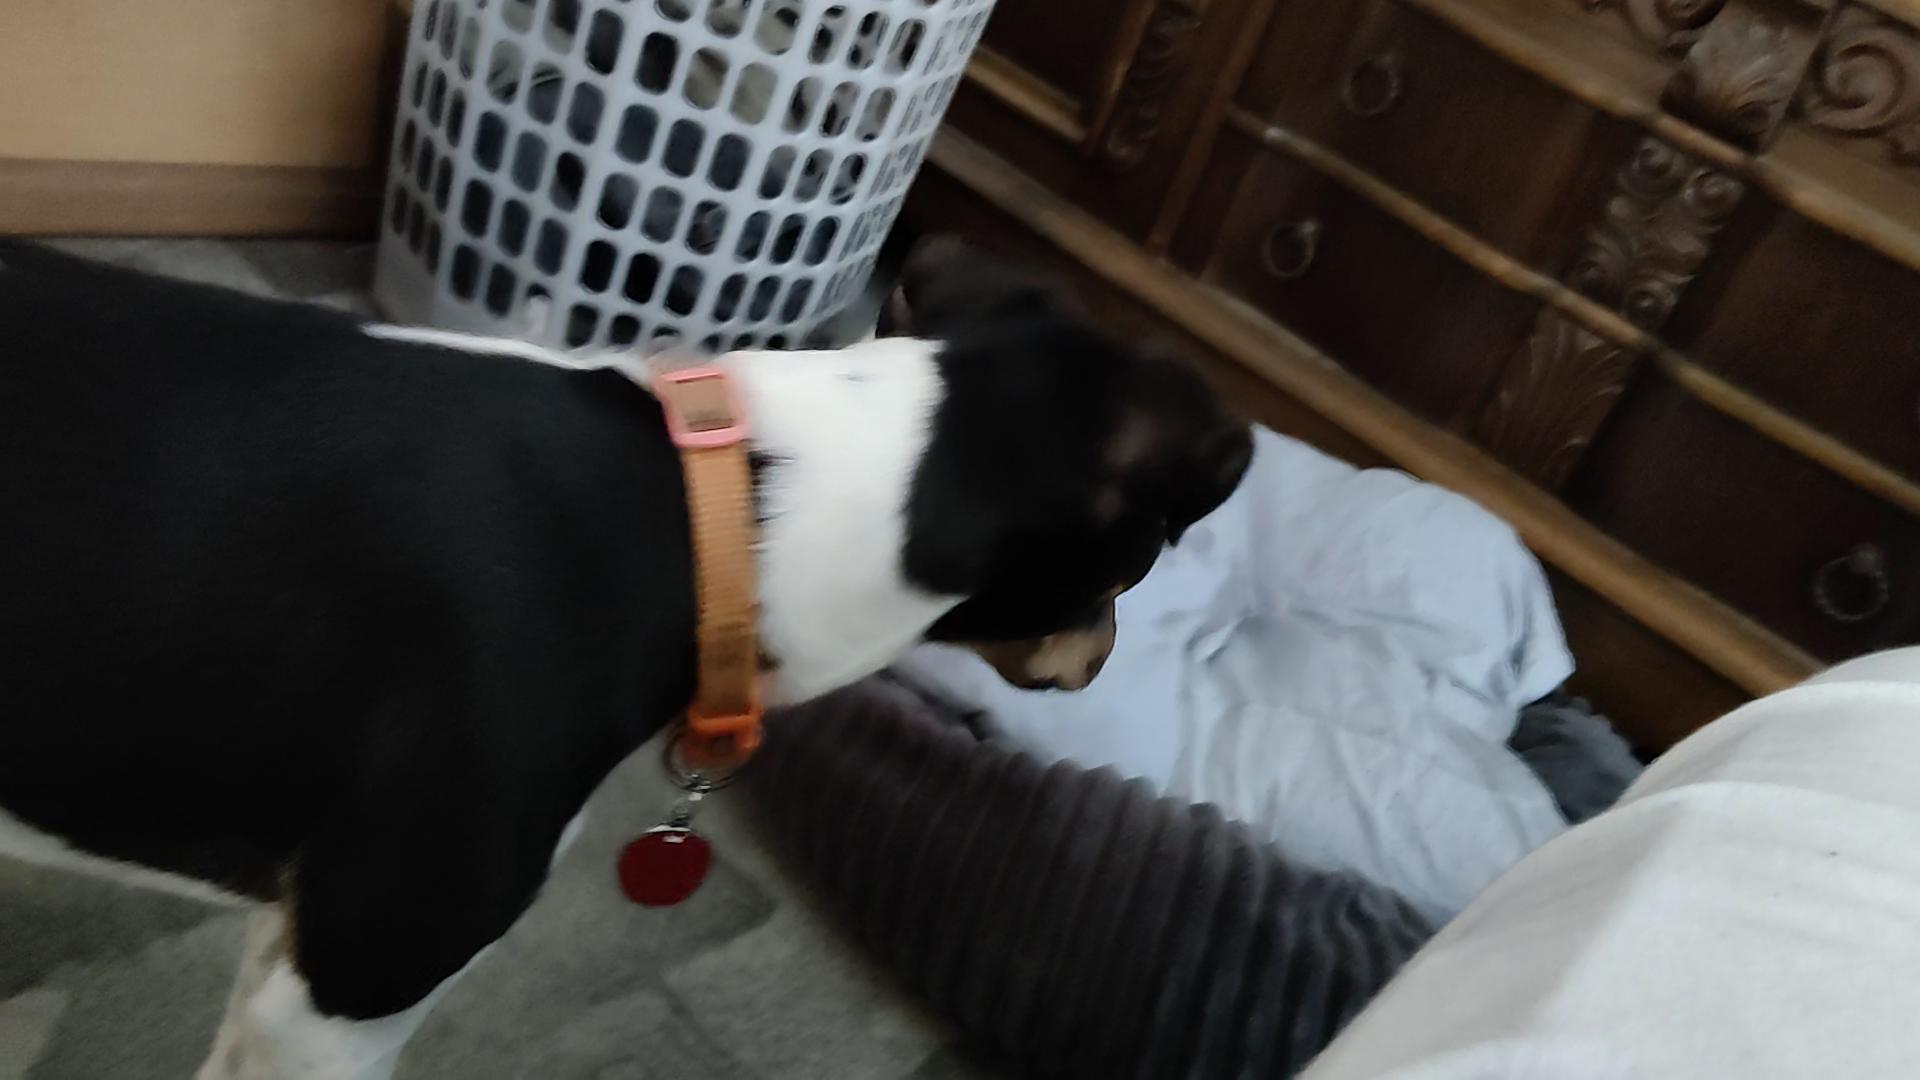Dog: (0, 212, 1261, 1079)
